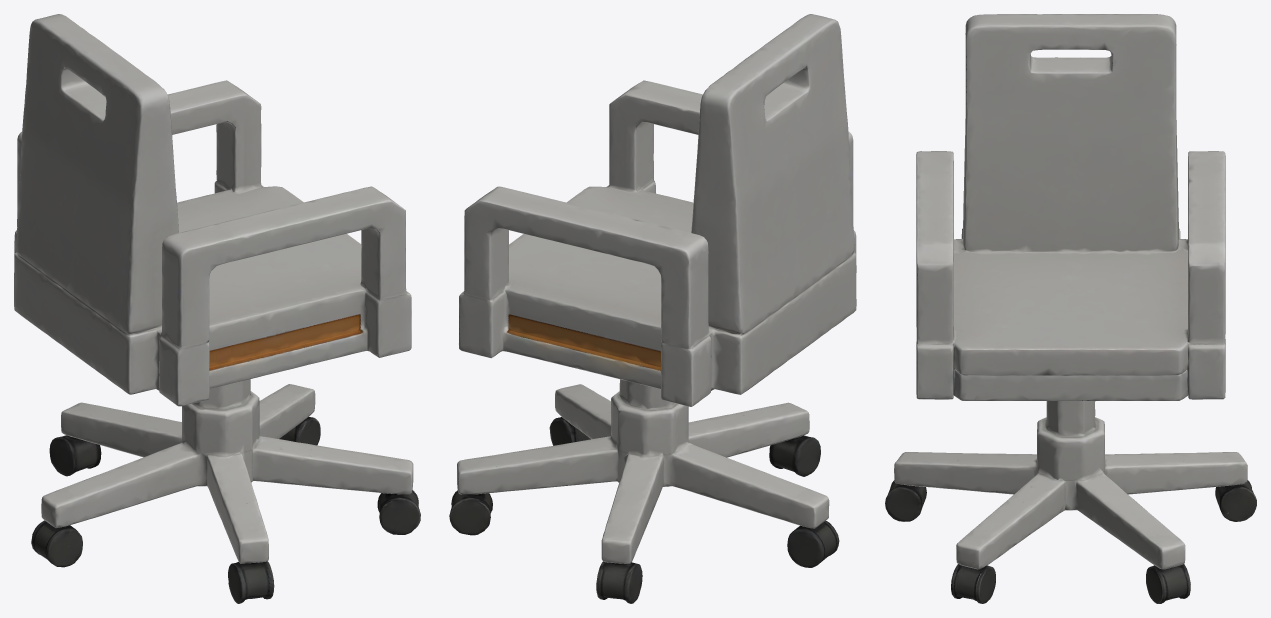
Rendered from tripo-output.glb.
3 renders of one model, left to right at view 1: azimuth 30°, elevation 25°; view 2: azimuth 150°, elevation 25°; view 3: azimuth 270°, elevation 25°, orthographic. The views are drawn at different scales.
Parts seen in each view (by area): view 1: tripo_node_81791a7c-57db-4277-aabd-48586c59c683; view 2: tripo_node_81791a7c-57db-4277-aabd-48586c59c683; view 3: tripo_node_81791a7c-57db-4277-aabd-48586c59c683.
Boxes of the visible parts, x1,y1,x2,y2 form: tripo_node_81791a7c-57db-4277-aabd-48586c59c683: (14, 14, 420, 603); tripo_node_81791a7c-57db-4277-aabd-48586c59c683: (449, 14, 856, 603); tripo_node_81791a7c-57db-4277-aabd-48586c59c683: (885, 14, 1256, 603).
Bounding box in the file's own units: 0.6945 × 1 × 0.7217.
1 material, 1 textured.
